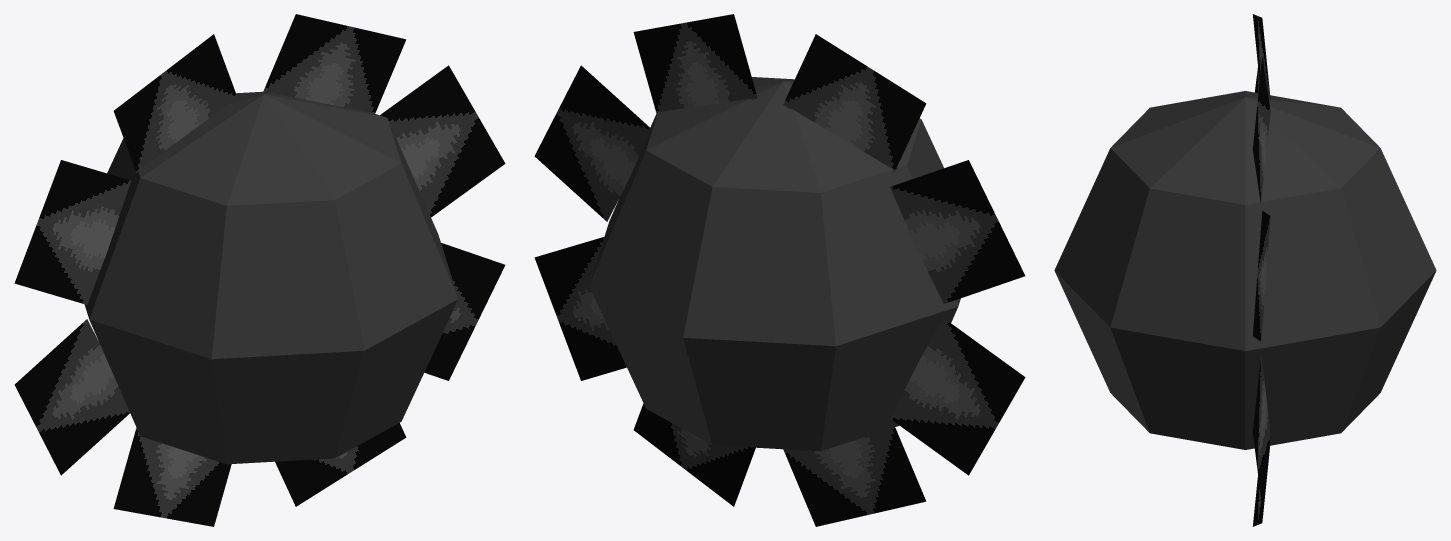
Rendered from Spikeball.glb.
The picture shows the model from 3 angles, left to right: view 1: azimuth 30°, elevation 25°; view 2: azimuth 150°, elevation 25°; view 3: azimuth 270°, elevation 25°; orthographic projection. The views are drawn at different scales.
Parts seen in each view (by area): view 1: Sphere, Plane; view 2: Sphere, Plane; view 3: Sphere, Plane.
Part boxes in pixels (x1,y1,x2,y2): Sphere: [84, 91, 458, 464]; Plane: [14, 14, 505, 526]; Sphere: [589, 77, 960, 451]; Plane: [534, 14, 1025, 526]; Sphere: [1054, 91, 1436, 449]; Plane: [1252, 14, 1270, 526].
Size of the model in its own units: 2.81 by 2.7 by 2.
Materials: 2 (1 with a texture image).
